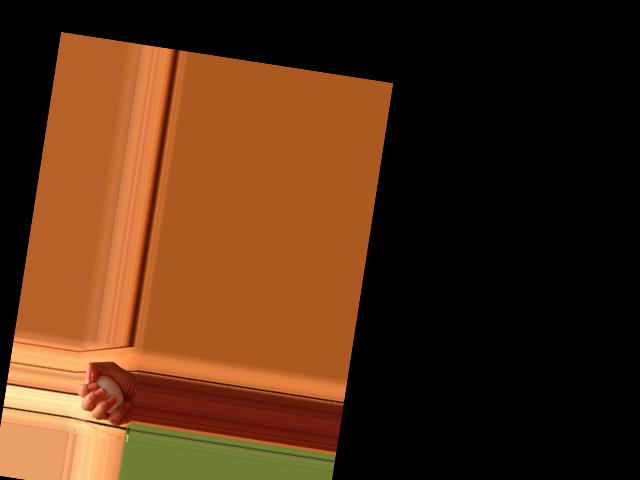egg: (88, 374, 127, 415)
